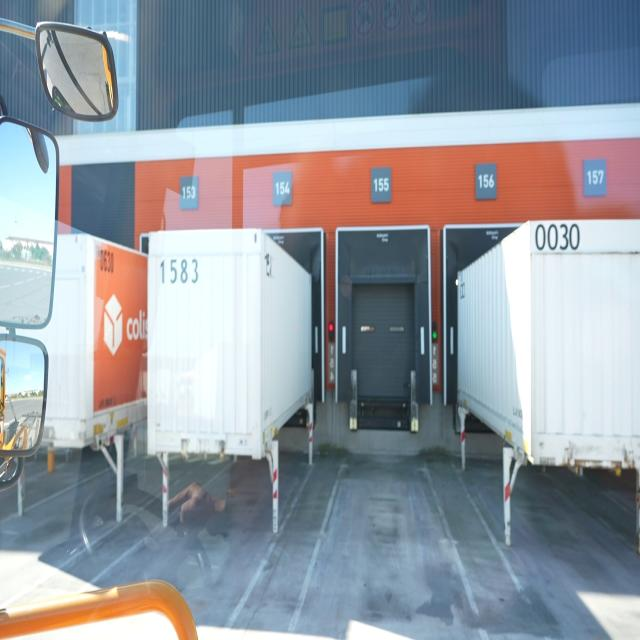Code: (532, 219, 583, 258), (157, 253, 201, 291)
